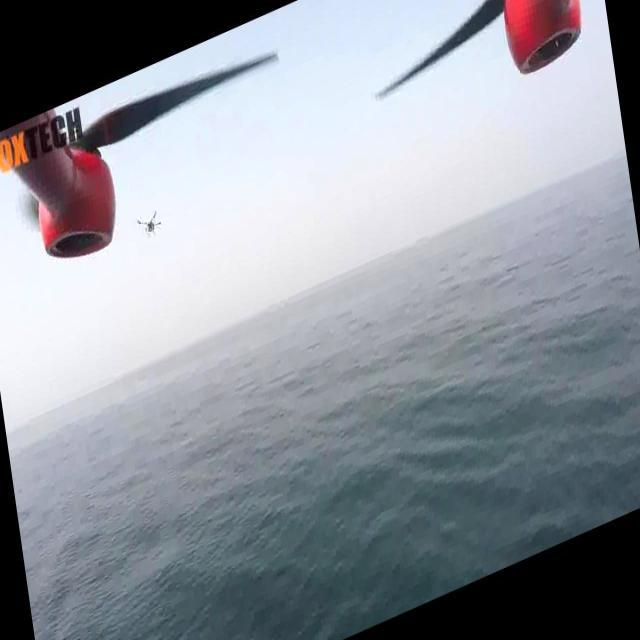drone: (133, 202, 167, 245)
